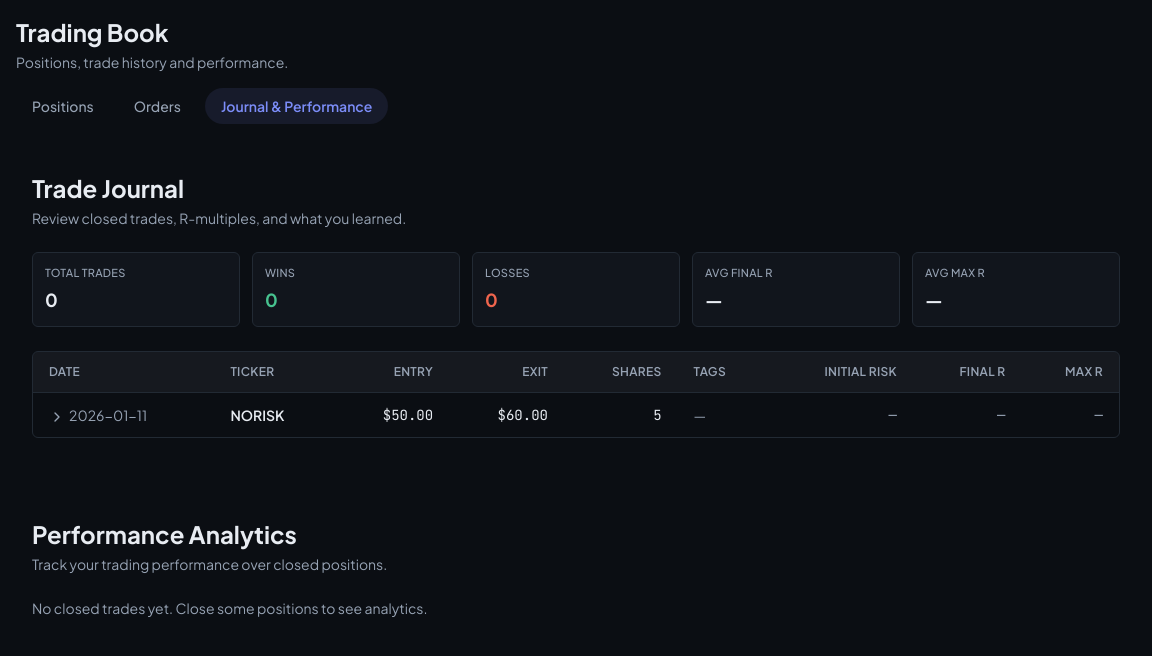
Test: Book page route state › keeps a closed trade without valid risk visible with unavailable R
The width and height of the screenshot is (1152, 656).
Click the text "NORISK": (274, 414) [214,392,334,437]
(page scrolled)
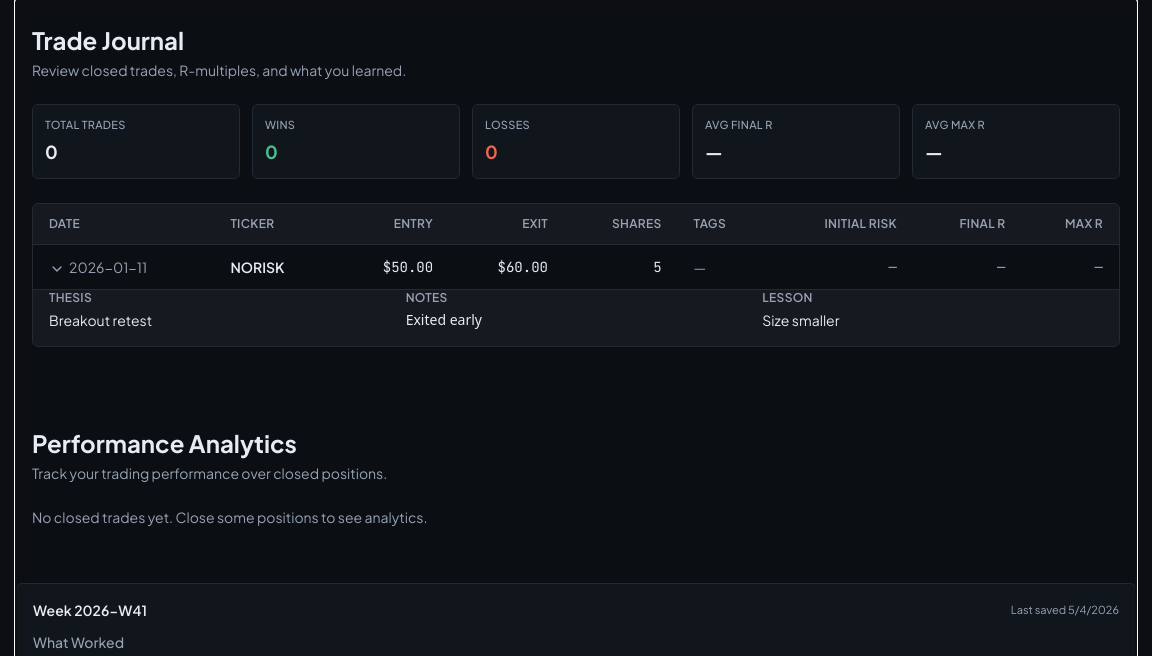
Check: the text "Breakout retest" is shown, box [49,311,152,329]
Check: the text "Exited early" is shown, box [406,310,482,329]
Check: the text "Size smaller" is shown, box [762,311,839,329]
